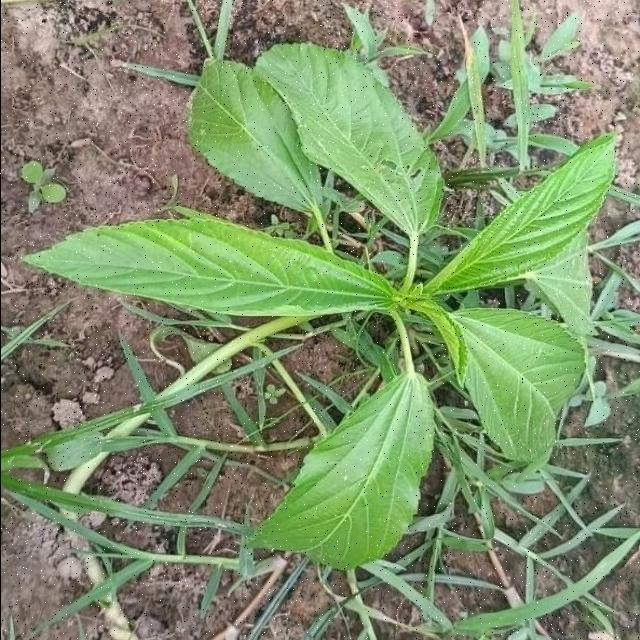plant: (27, 44, 613, 569)
